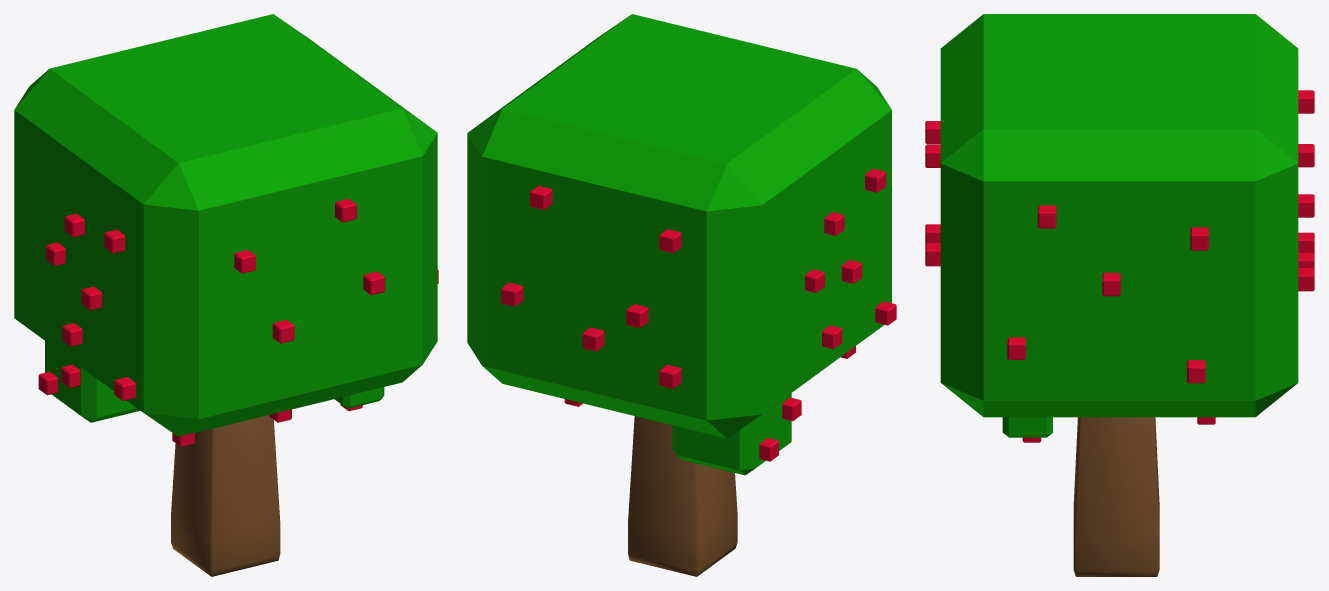
Rendered from Arbol 3.fbx.
3 views of the same model, side by side, from view 1: azimuth 30°, elevation 25°; view 2: azimuth 150°, elevation 25°; view 3: azimuth 270°, elevation 25° (orthographic). The views are drawn at different scales.
Visible parts, largest first — view 1: Cube, Cube.032, Cube.024, Cube.021; view 2: Cube, Cube.032, Cube.024; view 3: Cube, Cube.032, Cube.021.
Boxes of the visible parts, left/top/right/bottom form: Cube: left=14, top=14, right=437, bottom=436; Cube.032: left=171, top=415, right=280, bottom=576; Cube.024: left=45, top=341, right=140, bottom=422; Cube.021: left=334, top=387, right=384, bottom=408; Cube: left=467, top=14, right=891, bottom=438; Cube.032: left=628, top=416, right=737, bottom=576; Cube.024: left=672, top=393, right=791, bottom=475; Cube: left=940, top=14, right=1298, bottom=417; Cube.032: left=1073, top=417, right=1159, bottom=576; Cube.021: left=1002, top=417, right=1052, bottom=437.
Bounding box in the file's own units: 189 × 260 × 187.
